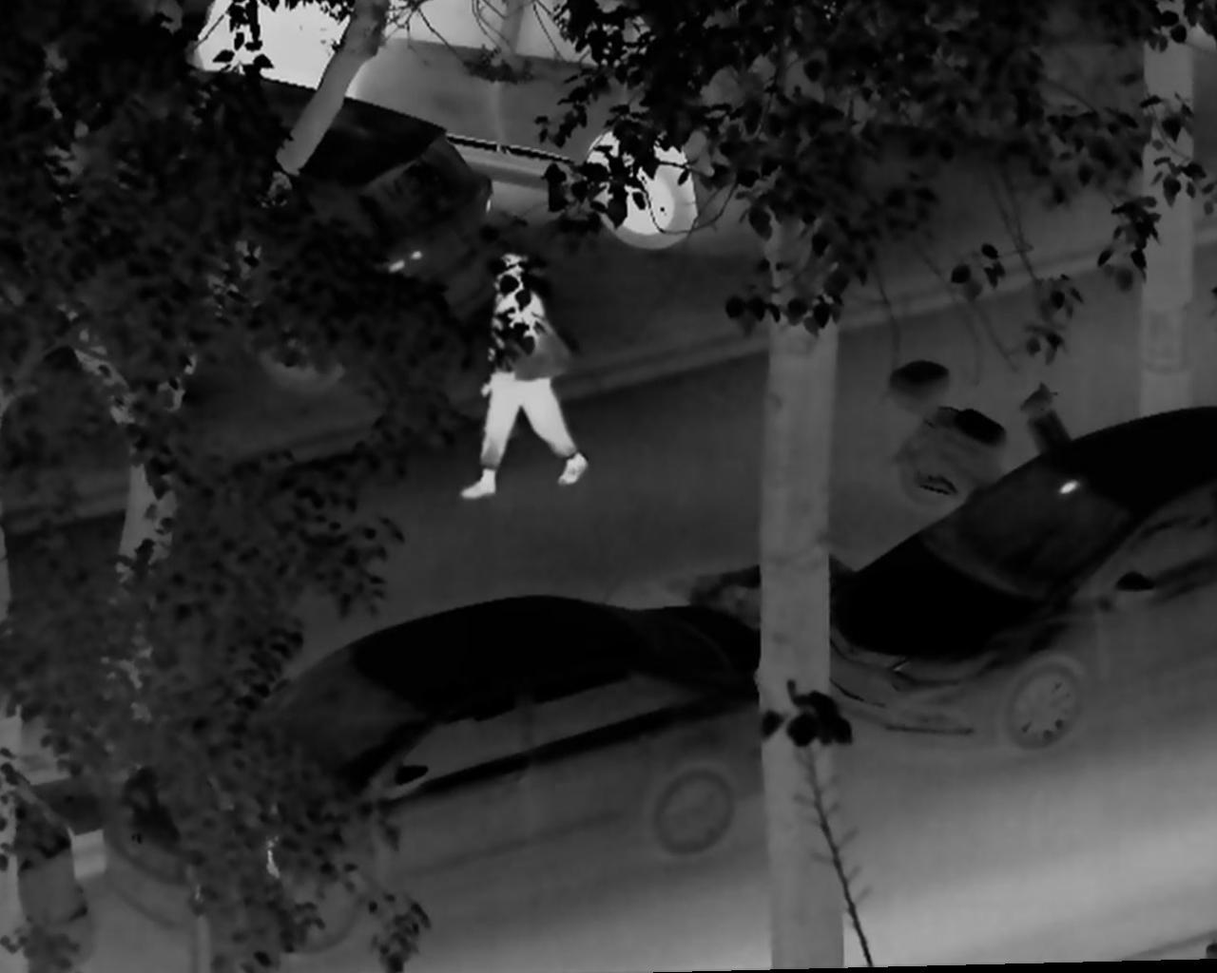person: (436, 250, 589, 506)
